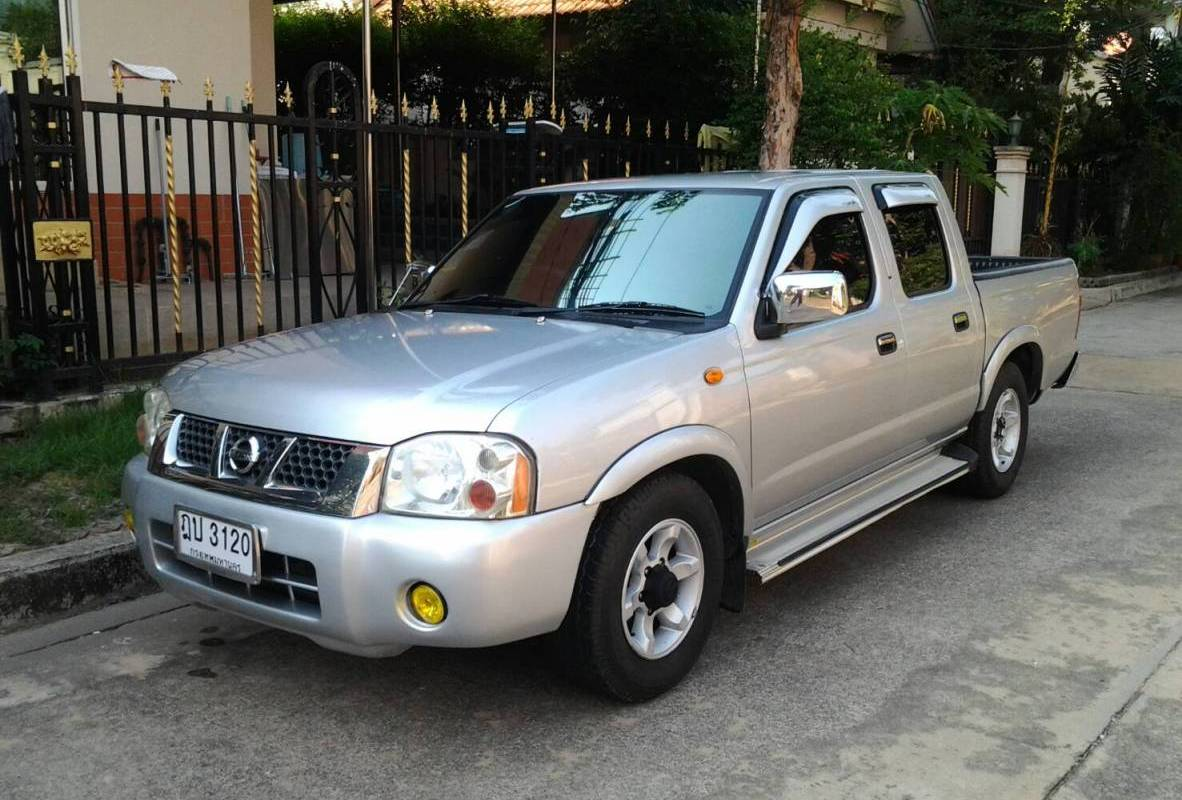pickup: (115, 163, 1083, 703)
